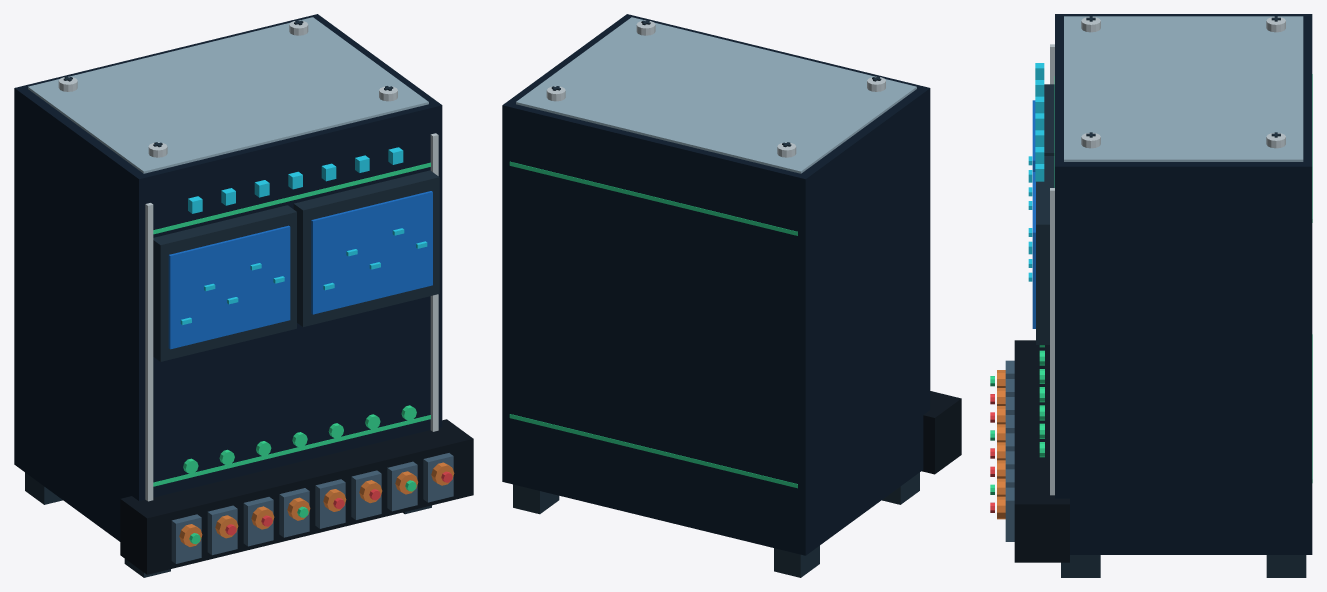
File: 26_L78_CapContinuityInspectionModule.fbx
3 renders of one model, left to right at view 1: azimuth 30°, elevation 25°; view 2: azimuth 150°, elevation 25°; view 3: azimuth 270°, elevation 25°, orthographic. The views are drawn at different scales.
Visible parts, largest first — view 1: CapContinuityInspectionModule; view 2: CapContinuityInspectionModule; view 3: CapContinuityInspectionModule.
Boxes of the visible parts, bbox=[...] form: CapContinuityInspectionModule: bbox=[14, 14, 473, 577]; CapContinuityInspectionModule: bbox=[502, 14, 961, 577]; CapContinuityInspectionModule: bbox=[990, 14, 1312, 577].
Size of the model in its own units: 127 by 155 by 105.
